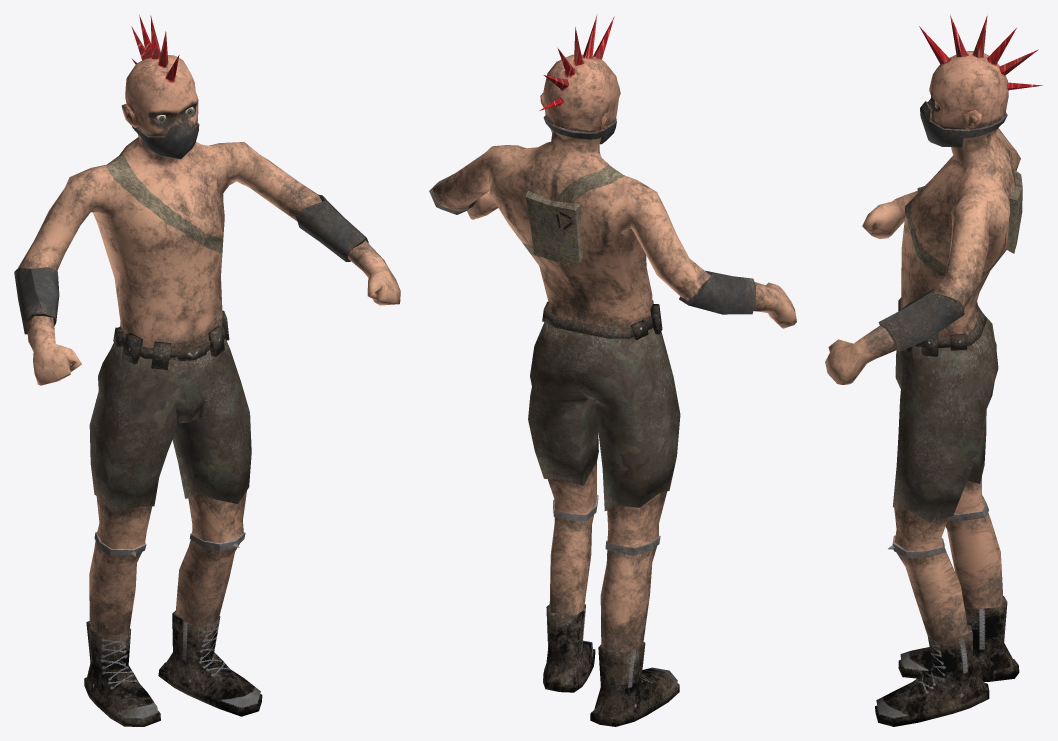
The model's file is Anim_ganar_1_npc2.0015.obj.
3 views of the same model, side by side, from view 1: azimuth 30°, elevation 25°; view 2: azimuth 150°, elevation 25°; view 3: azimuth 270°, elevation 25° (orthographic).
Visible parts, largest first — view 1: polySurface1; view 2: polySurface1; view 3: polySurface1.
Part boxes in pixels (x1,y1,x2,y2): polySurface1: [14, 15, 400, 726]; polySurface1: [429, 14, 796, 726]; polySurface1: [825, 14, 1042, 726].
Bounding box in the file's own units: 5.46 × 10.1 × 2.94.
